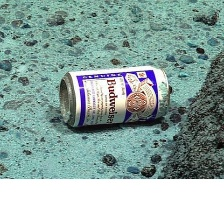can: (54, 66, 169, 130)
